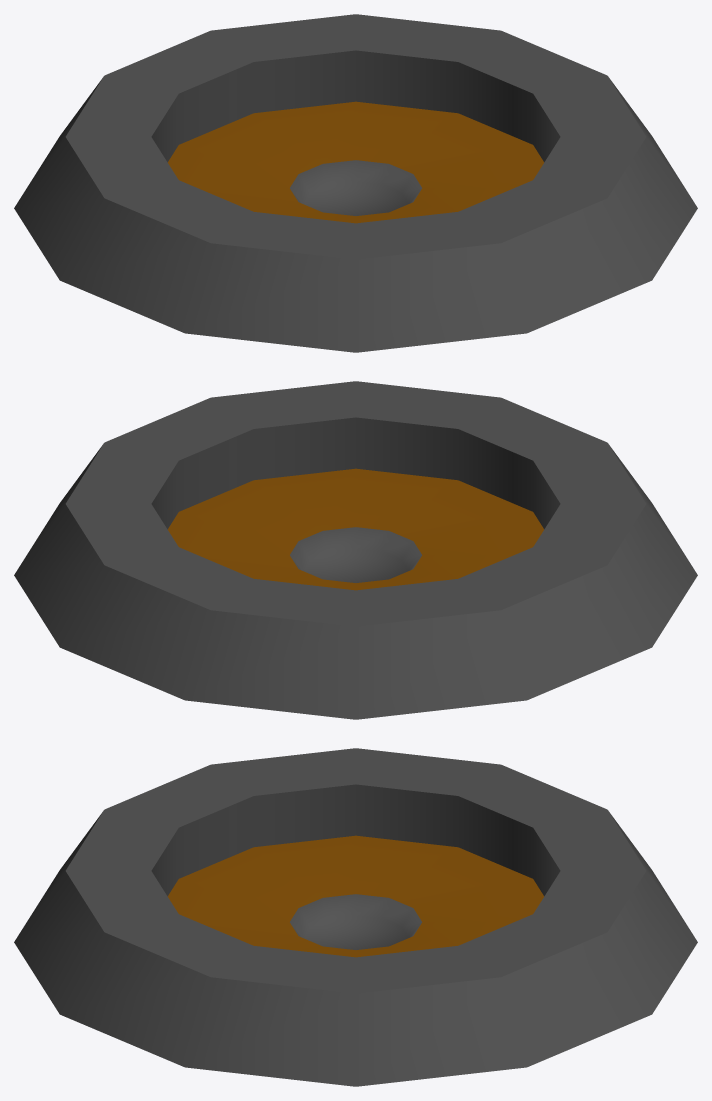
File: Port_Placeholder.fbx
3 renders of one model, top to bottom at view 1: azimuth 30°, elevation 25°; view 2: azimuth 150°, elevation 25°; view 3: azimuth 270°, elevation 25°, orthographic.
Visible parts, largest first — view 1: Port; view 2: Port; view 3: Port.
Part boxes in pixels (bbox=[...]): Port: bbox=[14, 14, 697, 352]; Port: bbox=[14, 381, 697, 719]; Port: bbox=[14, 748, 697, 1086].
Bounding box in the file's own units: 4 × 0.4606 × 4.
